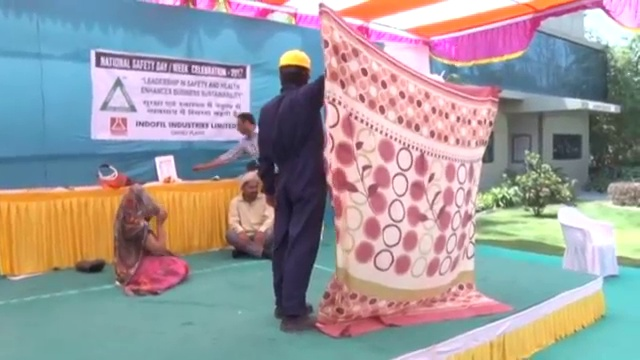helmet: (276, 49, 312, 71)
helmet_off: (125, 183, 150, 210), (241, 172, 260, 201), (237, 113, 257, 138)
helmet_on: (274, 47, 314, 90)
person: (256, 41, 332, 333), (111, 185, 185, 295), (219, 171, 282, 259), (182, 111, 269, 166)
